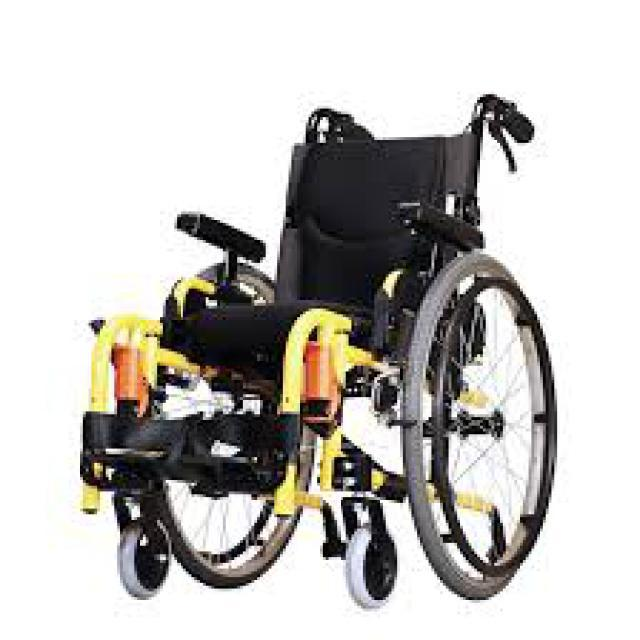wheelchair: (65, 86, 578, 612)
